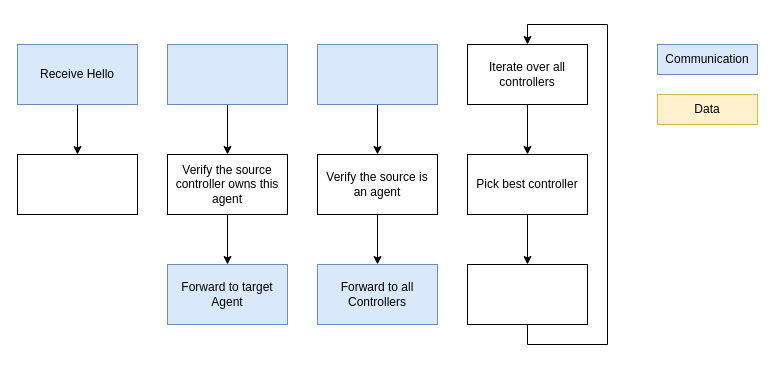
This 775x370 diagram has some shape labels left out. The centre of each missing label's shape, as x and y in pixels:
"Add node to system" goes at point (77, 184).
"Iterate over agents and assign the best controller" goes at point (527, 294).
"Receive Agent Location Message" goes at point (377, 74).
"Receive Agent Move Command" goes at point (227, 74).
